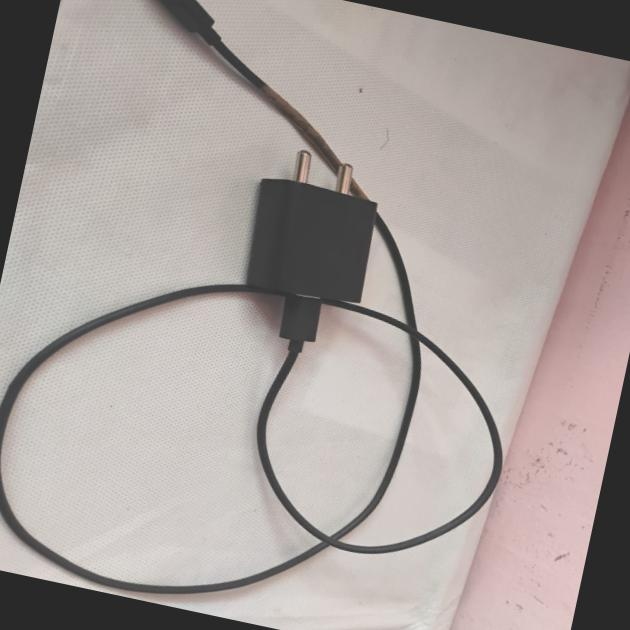mobliecharger: (0, 38, 578, 630)
